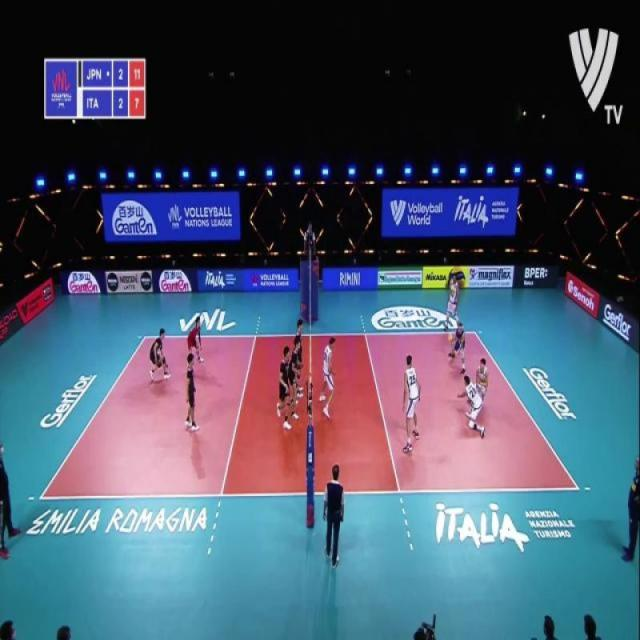volleyball: (444, 267, 467, 290), (447, 332, 452, 345)
